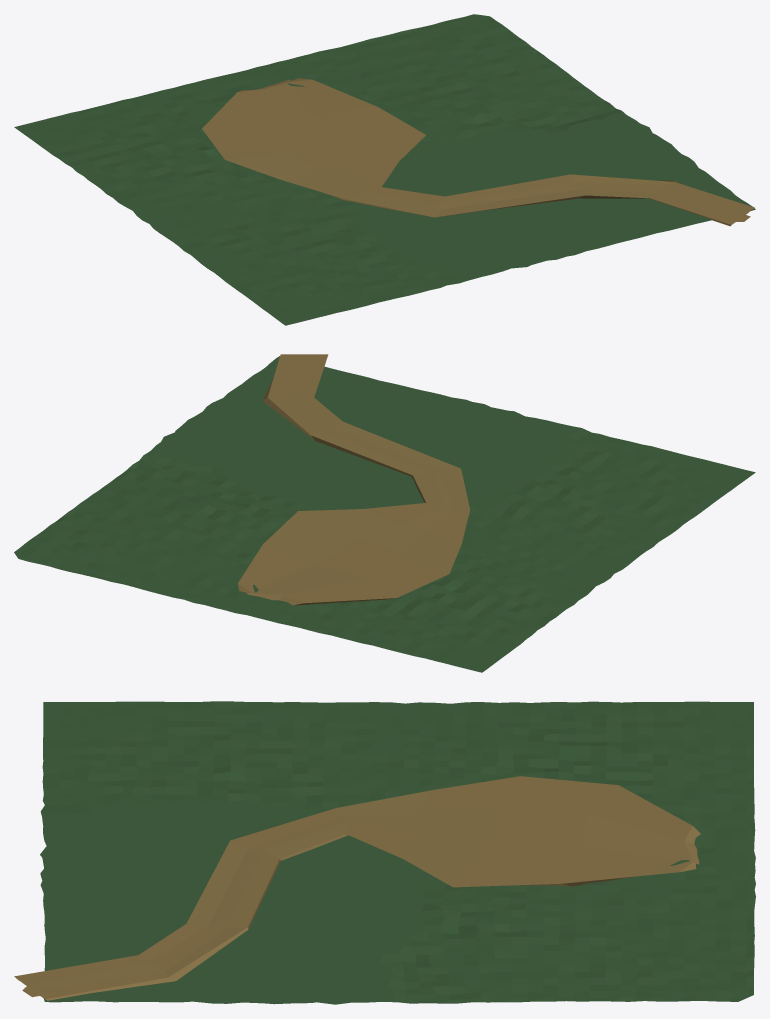
The model's file is athili_copse_section4.glb.
The picture shows the model from 3 angles, top to bottom: view 1: azimuth 30°, elevation 25°; view 2: azimuth 150°, elevation 25°; view 3: azimuth 270°, elevation 25°; orthographic projection. The views are drawn at different scales.
Visible parts, largest first — view 1: Grass, Road; view 2: Grass, Road; view 3: Grass, Road.
Part boxes in pixels (left/top/right/bottom): Grass: left=14, top=14, right=755, bottom=325; Road: left=202, top=78, right=754, bottom=226; Grass: left=14, top=356, right=755, bottom=672; Road: left=238, top=354, right=469, bottom=605; Grass: left=40, top=701, right=755, bottom=1004; Road: left=14, top=776, right=700, bottom=1000.
Bounding box in the file's own units: 59.83 × 0.9003 × 61.75.
